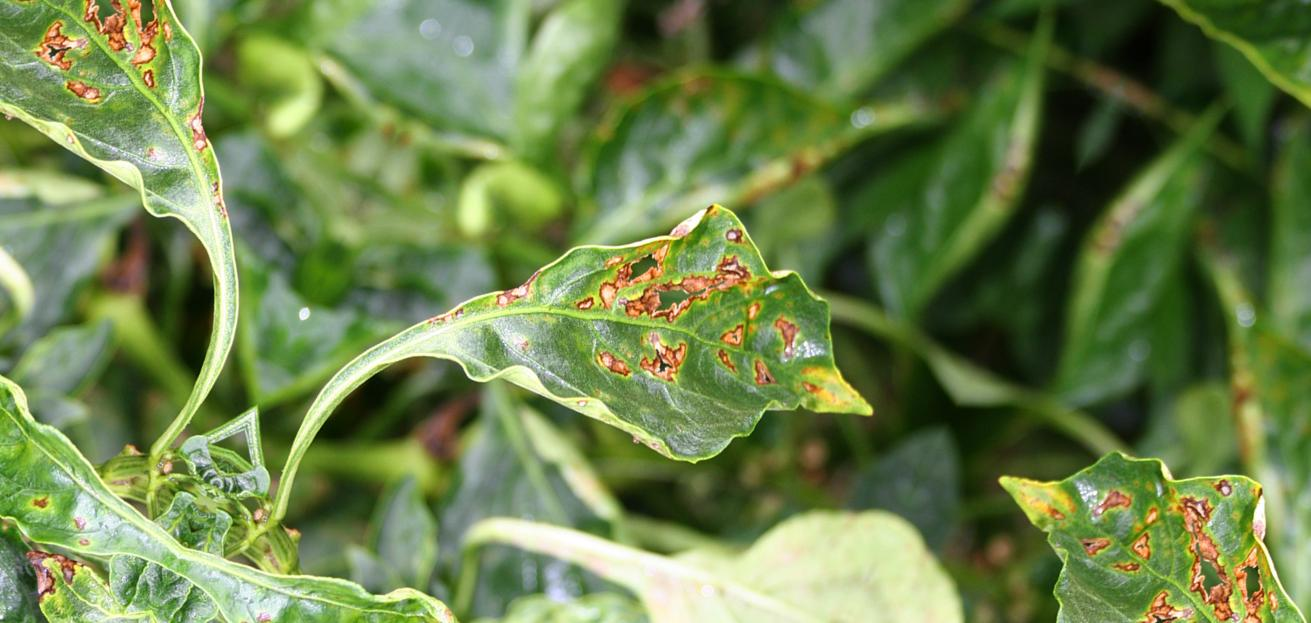Tomato leaf bacterial spot: (362, 77, 940, 598), (147, 458, 501, 623), (850, 0, 1233, 43)
